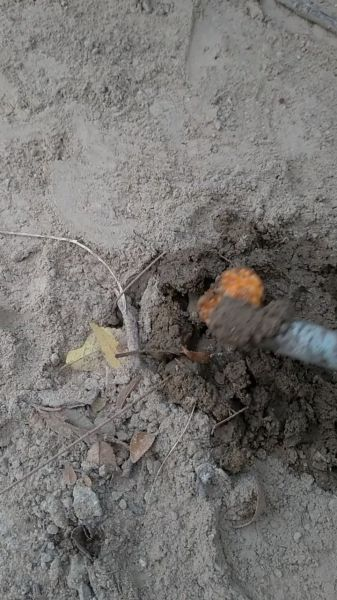eggs: (197, 267, 268, 340)
